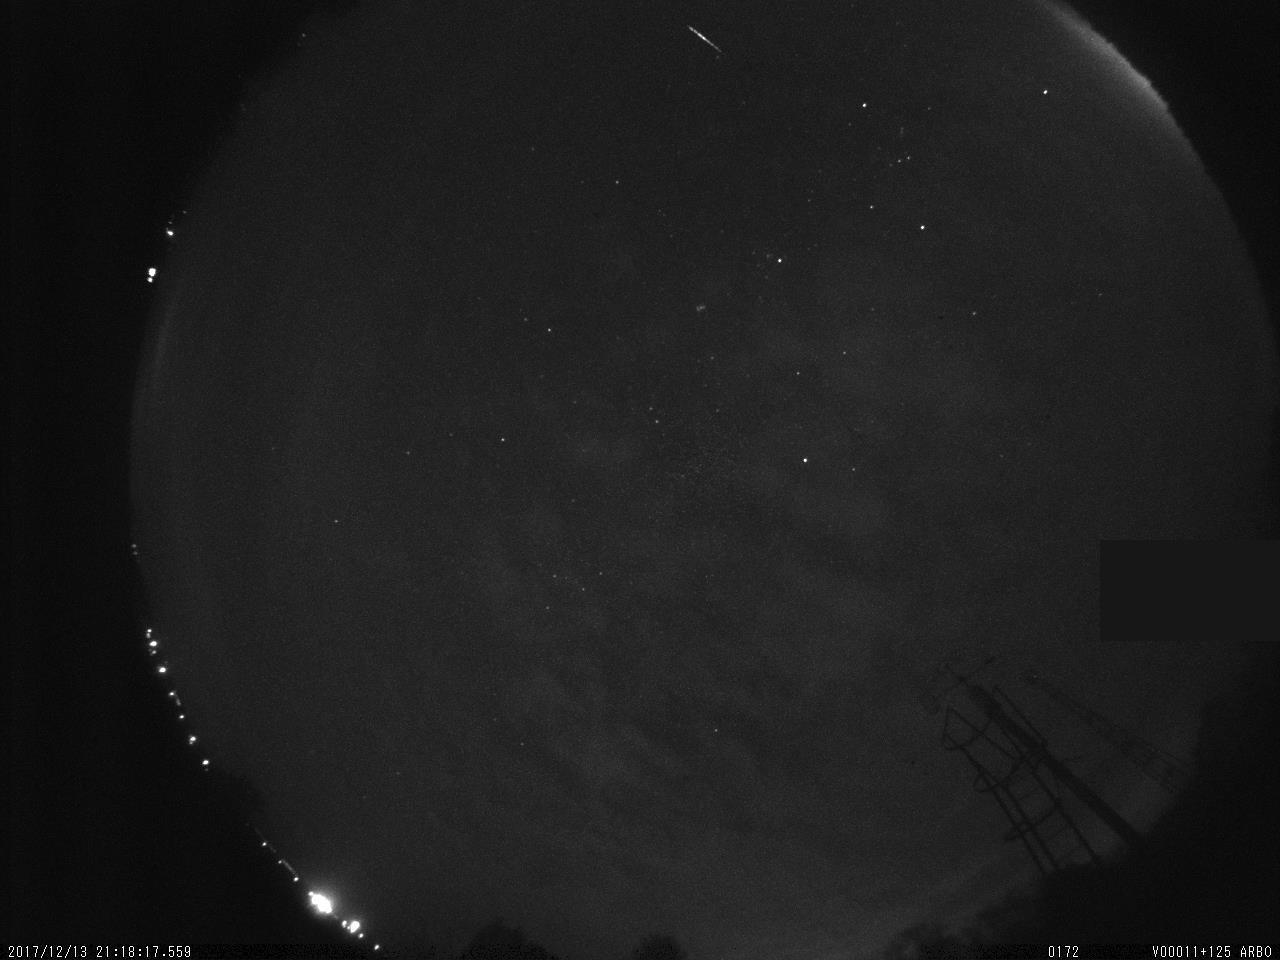meteor: (660, 19, 733, 64)
